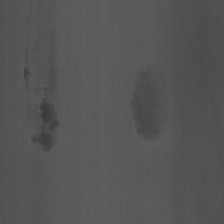oil_spot: (23, 36, 62, 156), (130, 54, 169, 147)
